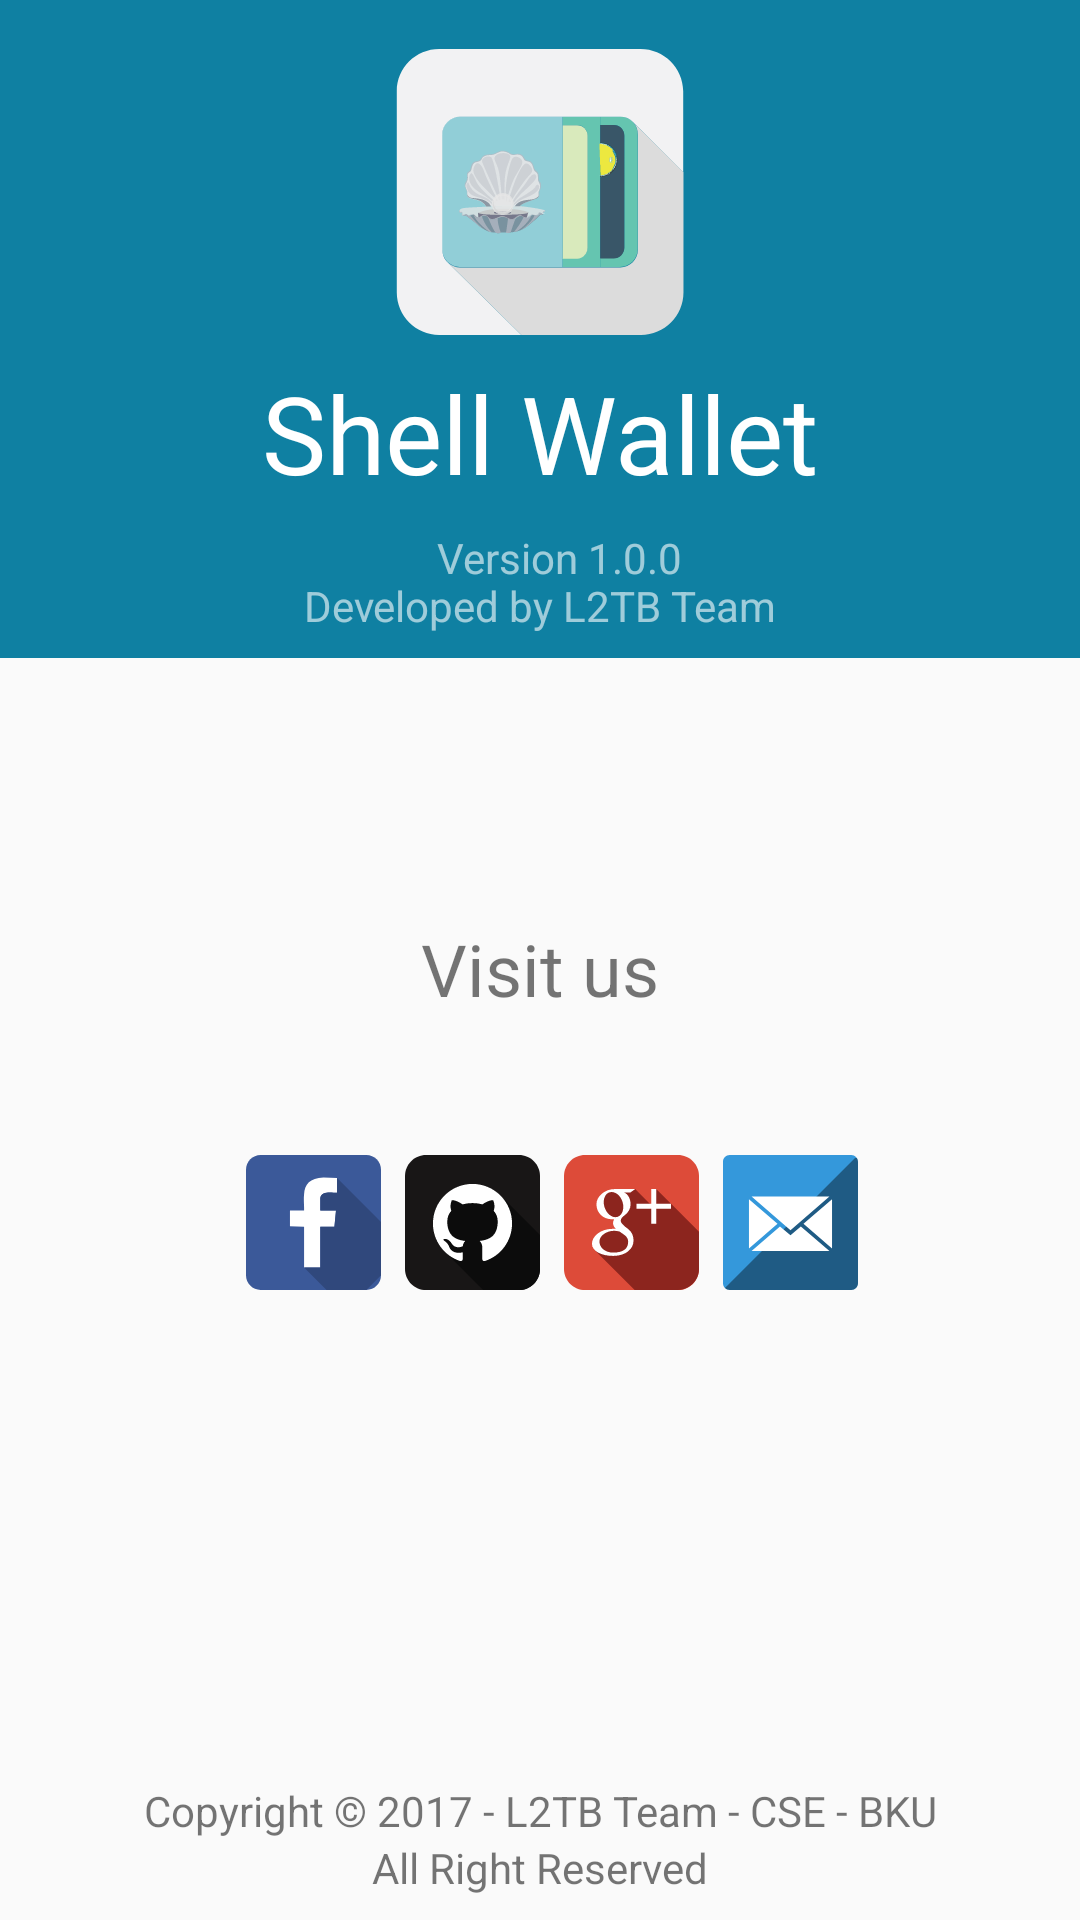

Locate icon controls on the screen. Image size 1080w x 1920h, boxes as [x1,y1,x2,y2].
mail: [723,1155,858,1290]
